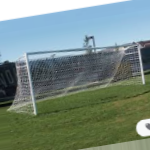goals: (5, 41, 147, 115)
